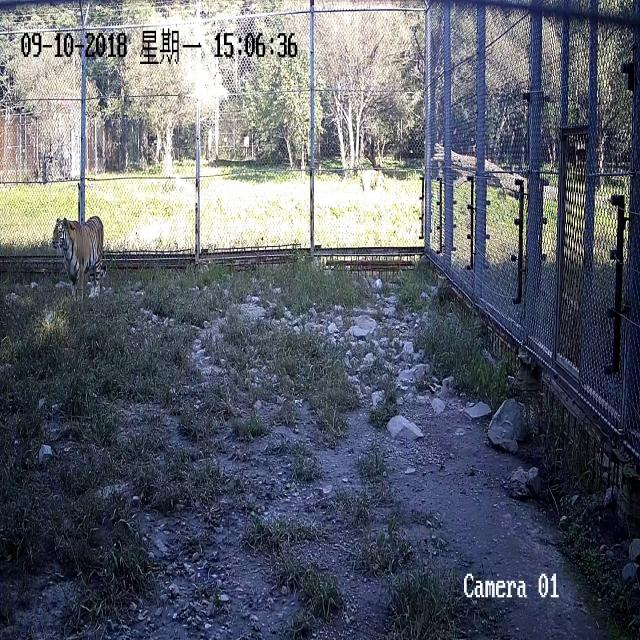Tiger: (44, 210, 133, 326)
